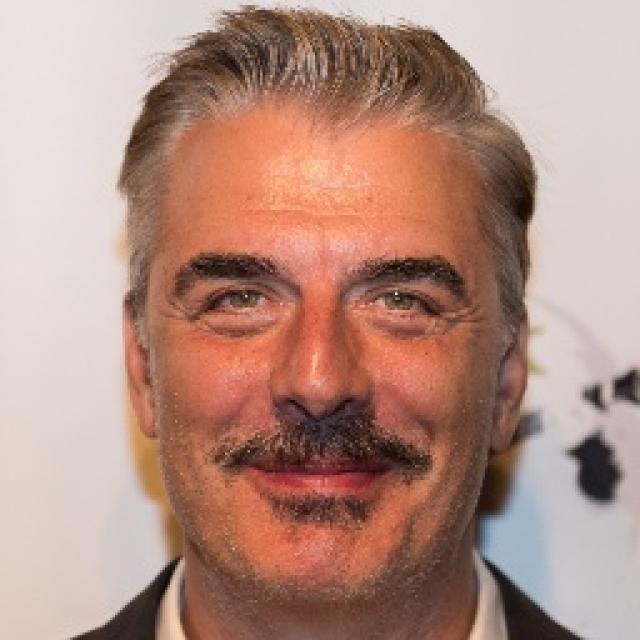earlobe: (488, 412, 516, 456), (132, 394, 158, 440)
eye: (200, 282, 281, 312), (360, 288, 438, 318)
nose: (270, 400, 364, 451)
wholeear: (489, 318, 530, 456), (122, 293, 158, 439)
